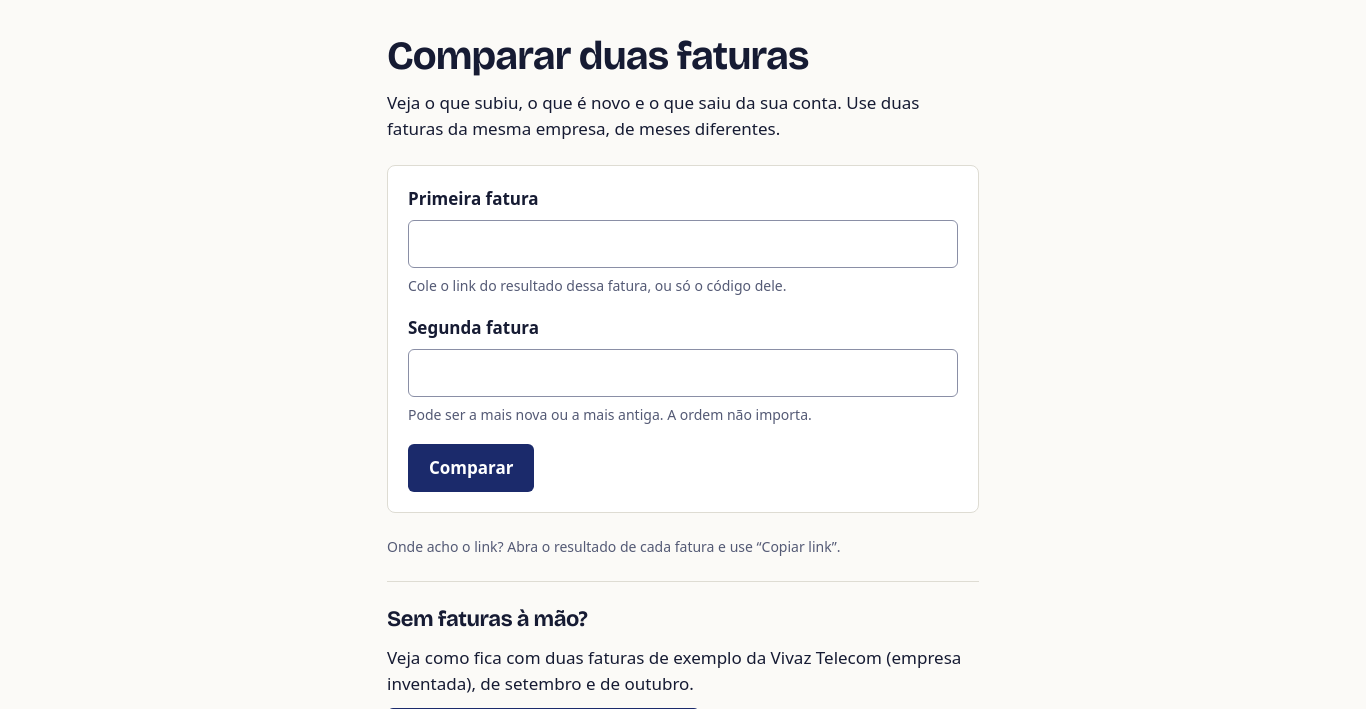
it: RF16: comparar faturas › serviço que virou cobrança nova ganha o marca-texto e a pergunta "você pediu isso?"
Type "5b0e8f0e-3b8a-4f5e-9c1a-0a1b2c3d4e5f" into the field labelled "Primeira fatura". click: (683, 244)
box: x1=408 y1=220 x2=958 y2=268
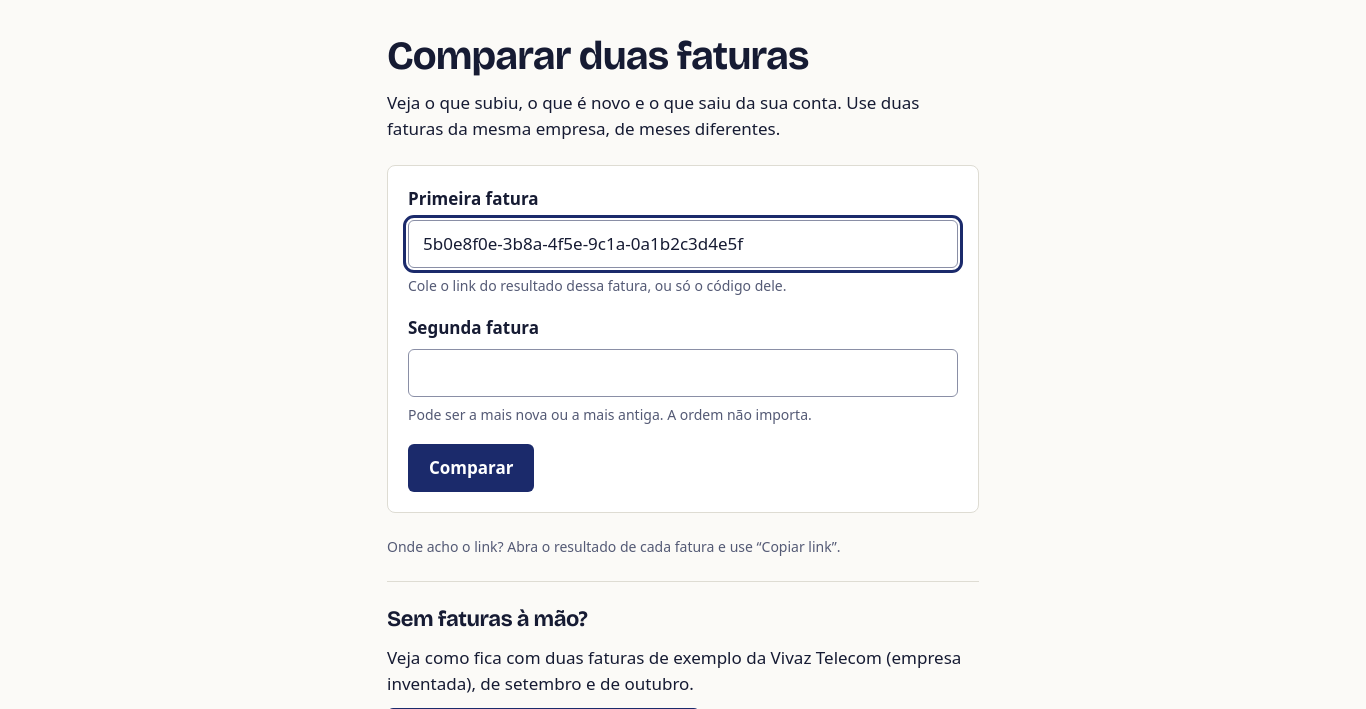
Type "9d4c1a77-52a3-4e0b-8f6d-7e8f9a0b1c2d" into the field labelled "Segunda fatura". click: (683, 373)
box: x1=408 y1=349 x2=958 y2=397
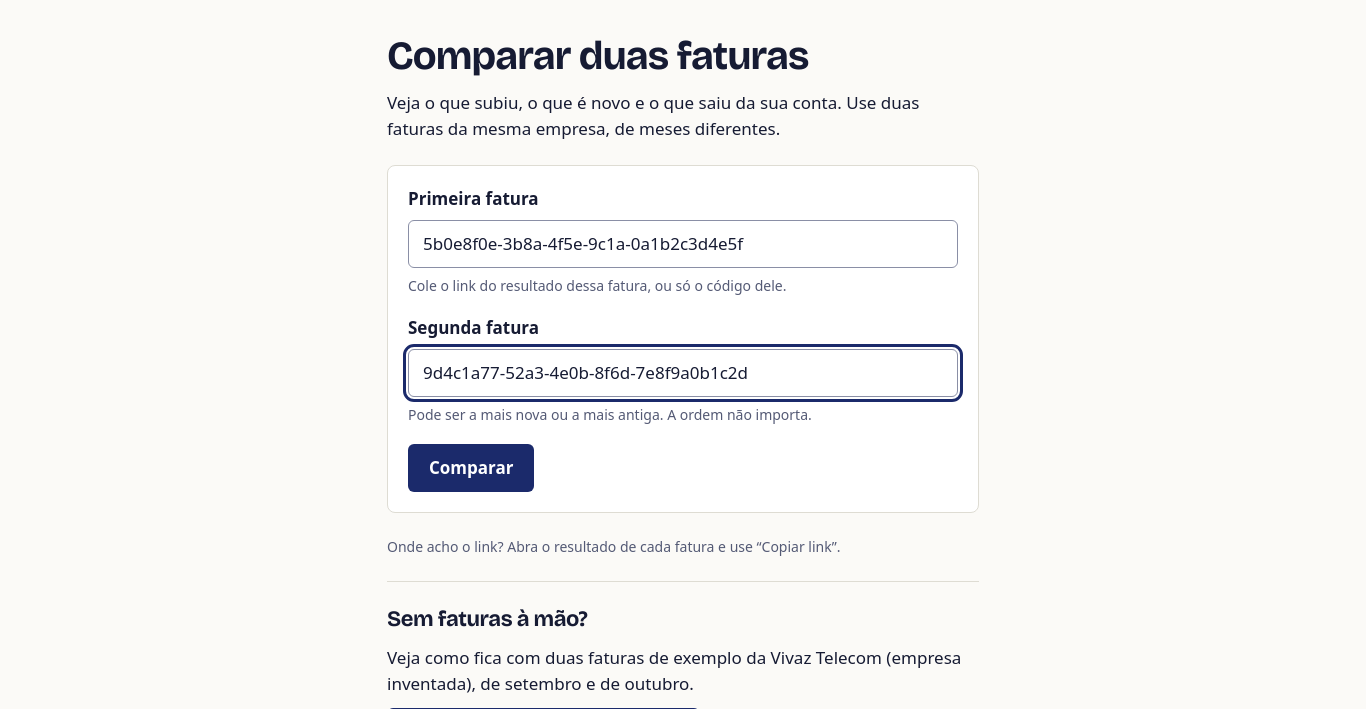
Click the button "Comparar". click: (471, 468)
box: x1=408 y1=444 x2=534 y2=492
(page scrolled)
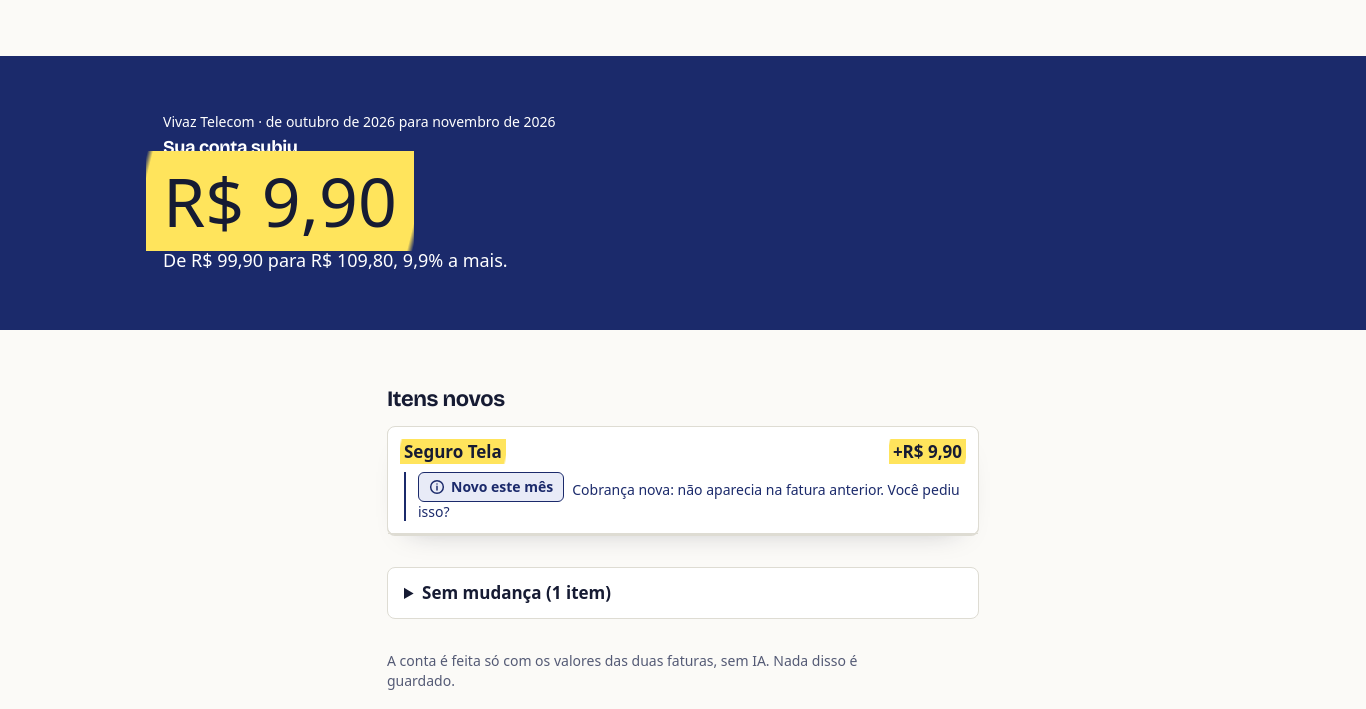
Now the text "Seguro Tela" is shown, box x1=400 y1=439 x2=506 y2=464
Now the text "Você pediu isso?" is shown, box x1=418 y1=480 x2=960 y2=521
